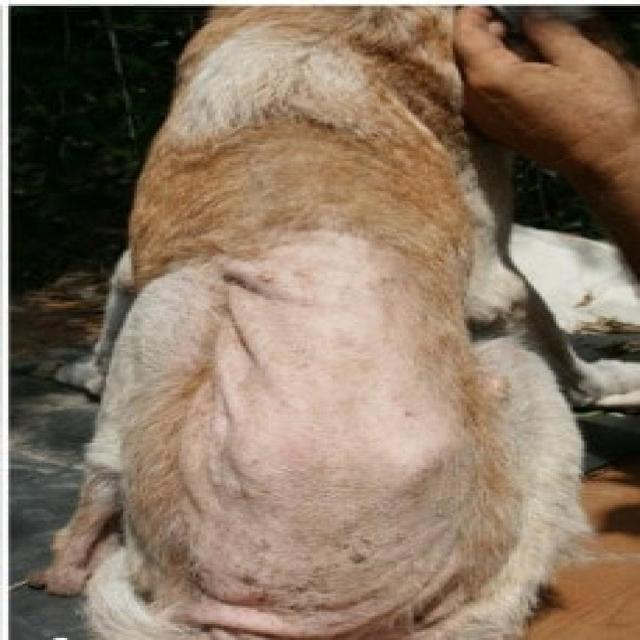allergic dermatitis: (199, 232, 452, 508)
